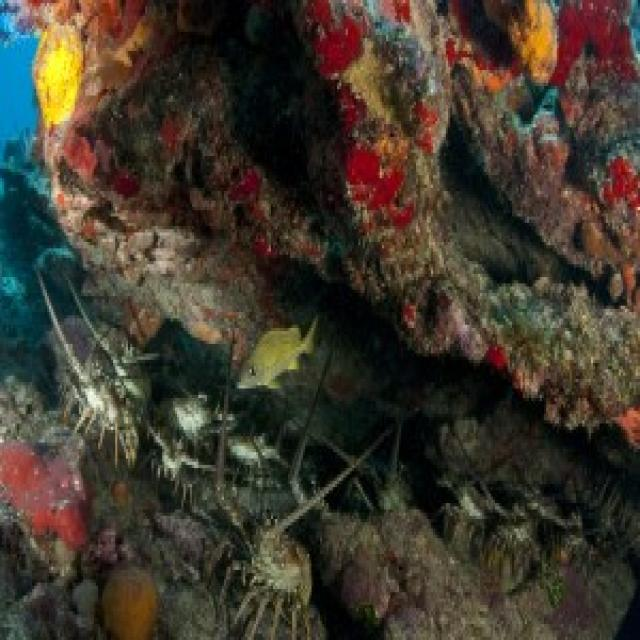lobsters: (230, 490, 333, 640), (45, 351, 142, 504), (505, 472, 606, 600), (146, 410, 216, 550), (334, 416, 425, 522), (158, 356, 228, 472), (446, 458, 498, 562), (219, 423, 289, 485)
